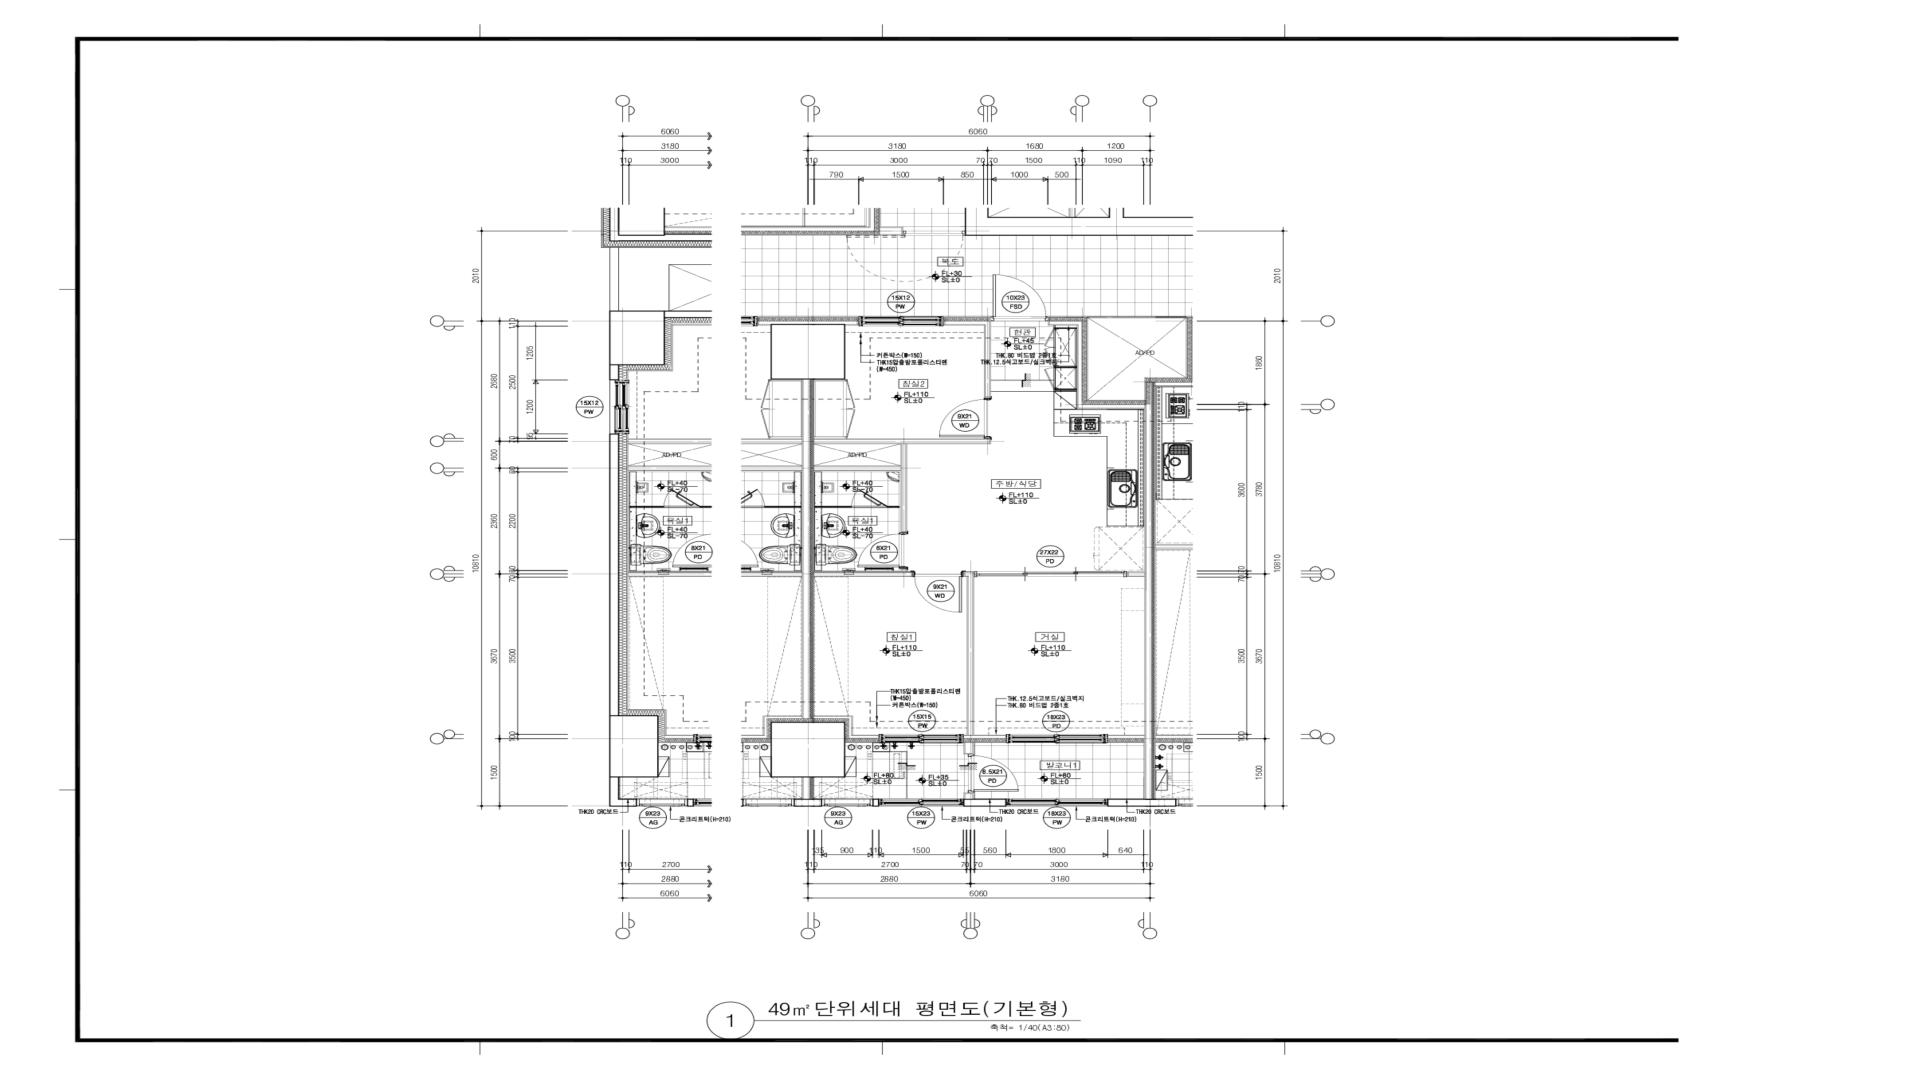door: (902, 231, 965, 282), (990, 274, 1048, 322), (939, 397, 992, 439), (913, 571, 964, 613), (968, 753, 1019, 793), (857, 533, 909, 568), (975, 571, 1126, 578), (851, 489, 889, 508)
wall: (965, 216, 1193, 236), (1143, 405, 1151, 799), (802, 380, 810, 719), (808, 323, 845, 380), (808, 721, 845, 777), (967, 576, 975, 735), (814, 438, 992, 444), (741, 225, 874, 231), (901, 444, 907, 533), (1076, 326, 1083, 410), (814, 571, 913, 576), (985, 326, 992, 398), (814, 465, 901, 471), (1108, 798, 1151, 807), (964, 799, 1006, 807), (1083, 405, 1145, 410), (964, 207, 989, 218), (808, 320, 858, 326), (1088, 315, 1187, 318), (943, 320, 992, 326), (880, 225, 903, 236), (864, 208, 874, 225), (963, 735, 1006, 738), (802, 778, 810, 799), (802, 799, 822, 807), (1047, 322, 1083, 326), (1109, 208, 1125, 216), (964, 742, 975, 754), (812, 716, 853, 719), (853, 735, 880, 738), (815, 505, 851, 508), (1108, 736, 1143, 738), (1126, 571, 1143, 576), (849, 719, 853, 738), (964, 793, 976, 799), (1068, 208, 1076, 218), (964, 571, 975, 576), (873, 798, 880, 806), (901, 568, 907, 571), (889, 506, 899, 508)
window: (858, 316, 943, 327), (1006, 735, 1108, 742), (1006, 799, 1108, 807), (878, 798, 964, 806), (880, 735, 963, 742), (822, 798, 873, 806)
